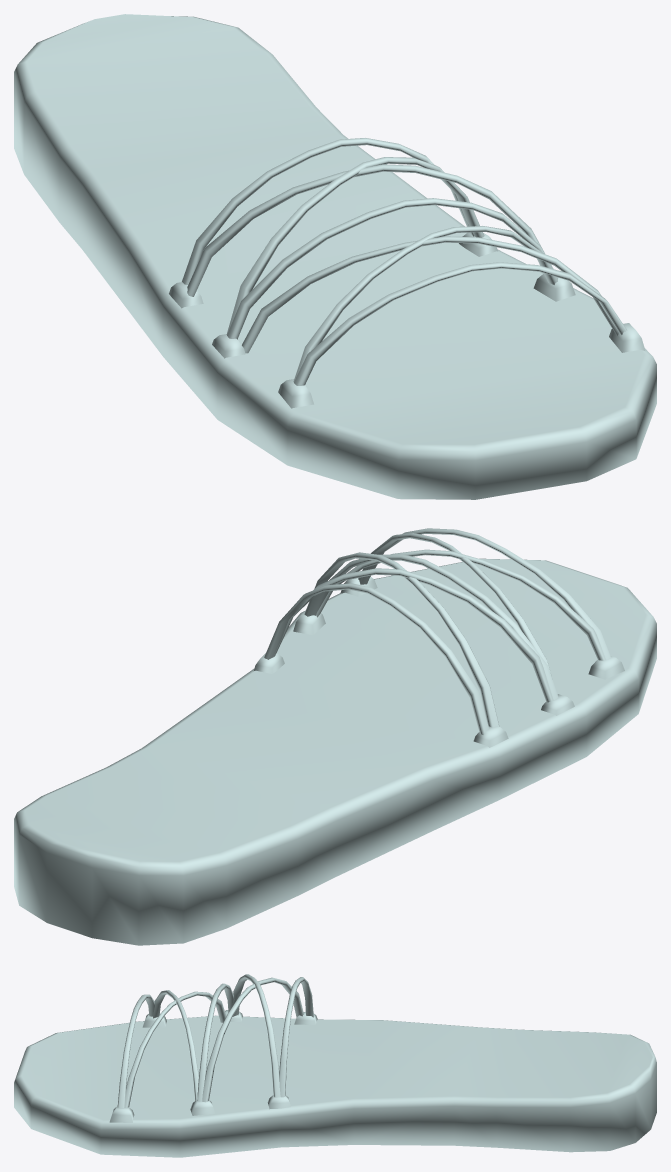
File: Slipper_2.fbx
3 views of the same model, one above another, from view 1: azimuth 30°, elevation 25°; view 2: azimuth 150°, elevation 25°; view 3: azimuth 270°, elevation 25° (orthographic). The views are drawn at different scales.
Parts seen in each view (by area): view 1: sd; view 2: sd; view 3: sd.
Part boxes in pixels (left/top/right/bottom): sd: left=14, top=14, right=656, bottom=499; sd: left=14, top=528, right=656, bottom=945; sd: left=14, top=974, right=656, bottom=1157.
Bounding box in the file's own units: 0.1537 × 0.0784 × 0.3819.
